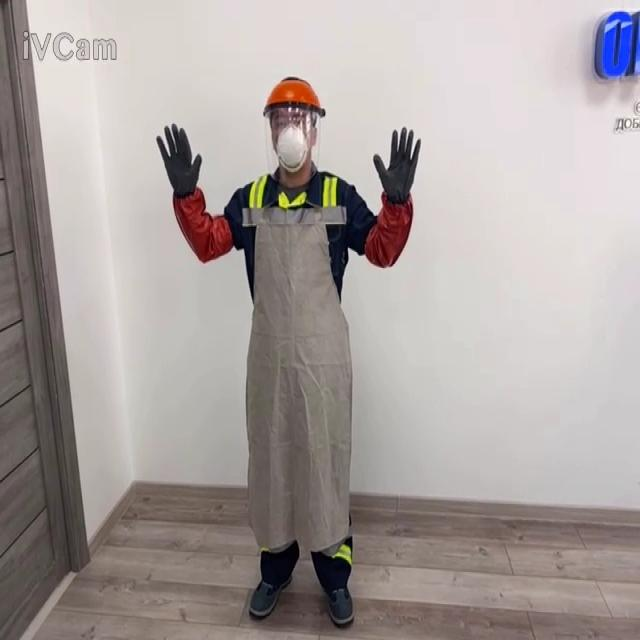Mask: (274, 122, 310, 174)
Protective apron: (242, 188, 353, 556)
Safety Shoes: (248, 574, 292, 618), (325, 584, 353, 624)
Sleeve: (172, 185, 233, 263), (363, 189, 413, 268)
gloves: (372, 125, 421, 204), (155, 123, 202, 197)
